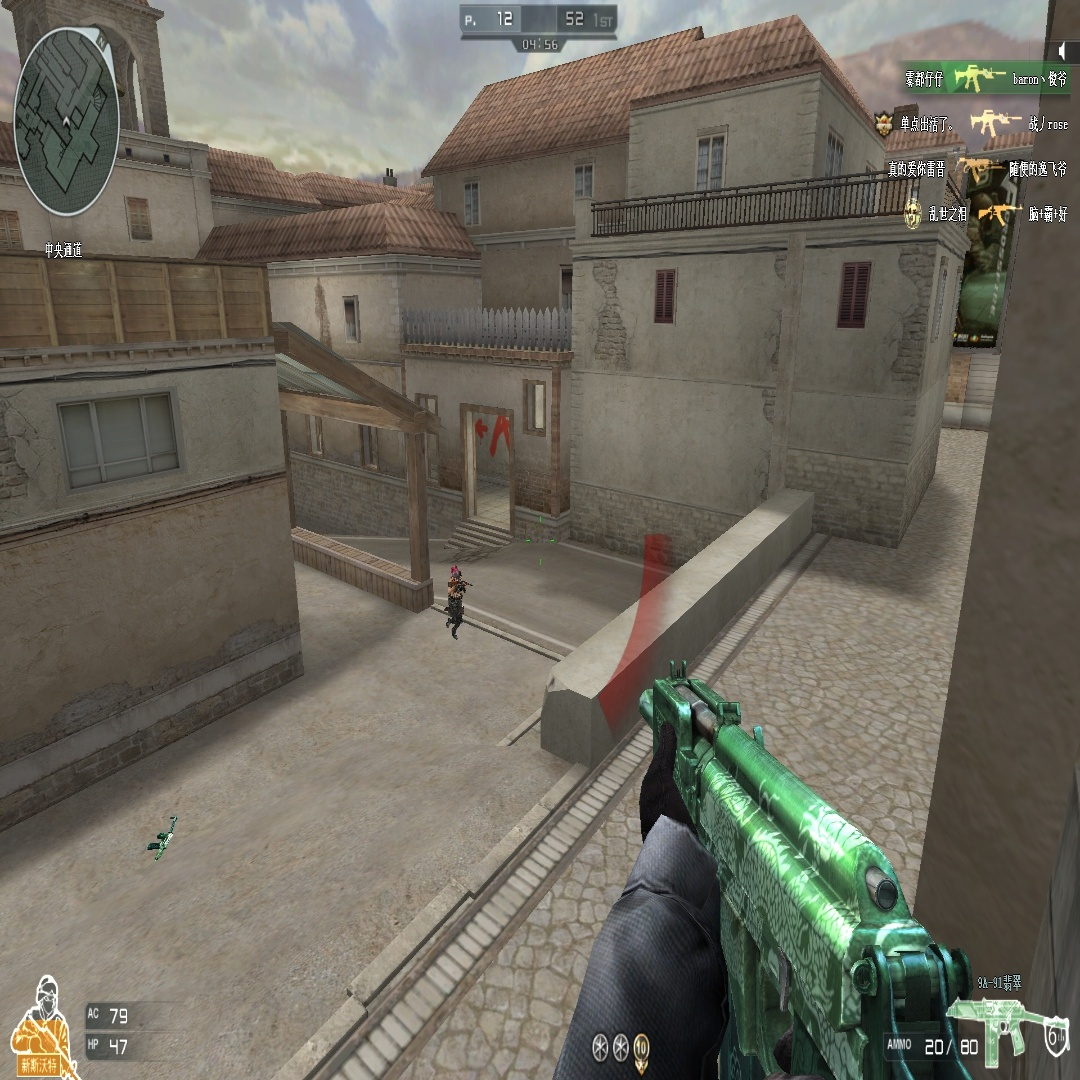p: (444, 564, 469, 637)
